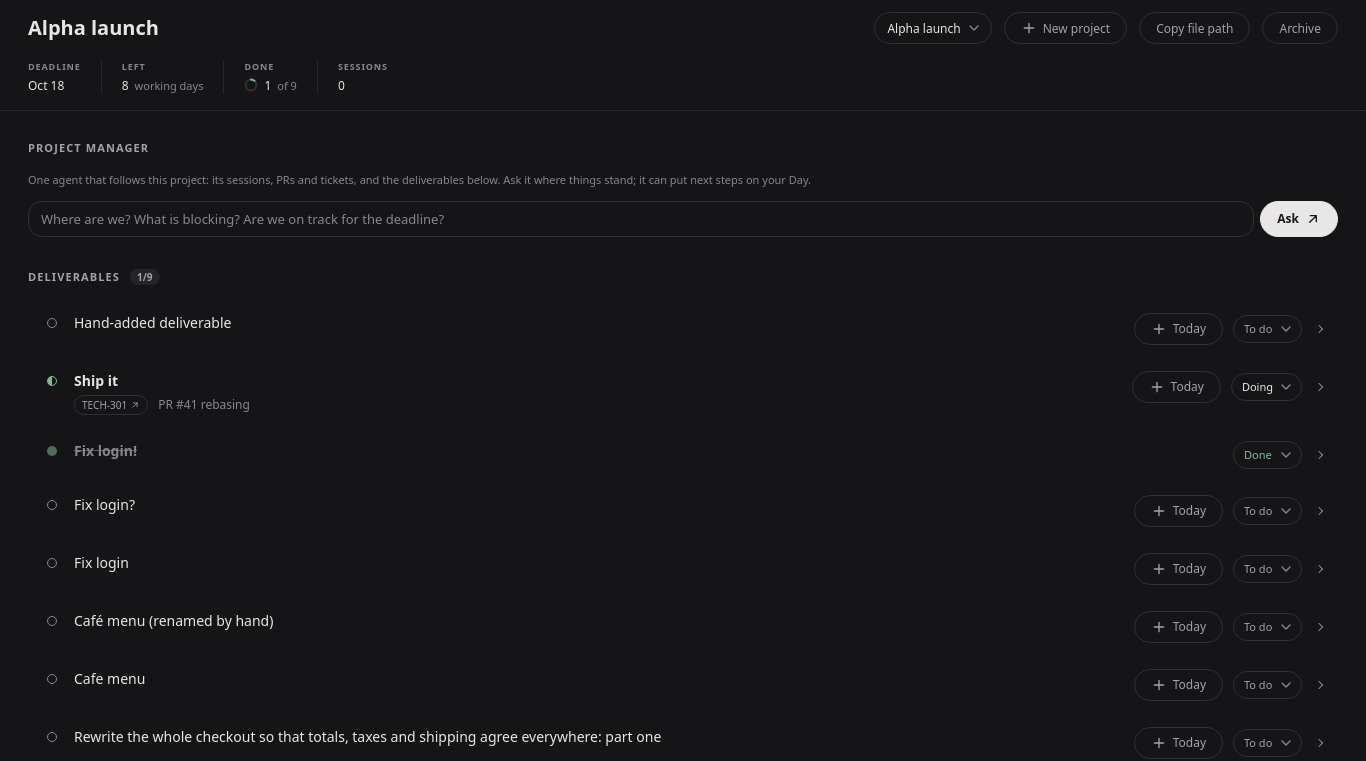
Test case: Projects pane › opens a task to its brief and sources, sends comments with Enter, keeps the text when refused
Expected: the heading "Alpha launch" is shown, left=28, top=14, right=159, bottom=41
Click the heading "Ship it TECH-301 PR #41 rebasing Today Doing" at [96, 380], box left=28, top=359, right=1338, bottom=427
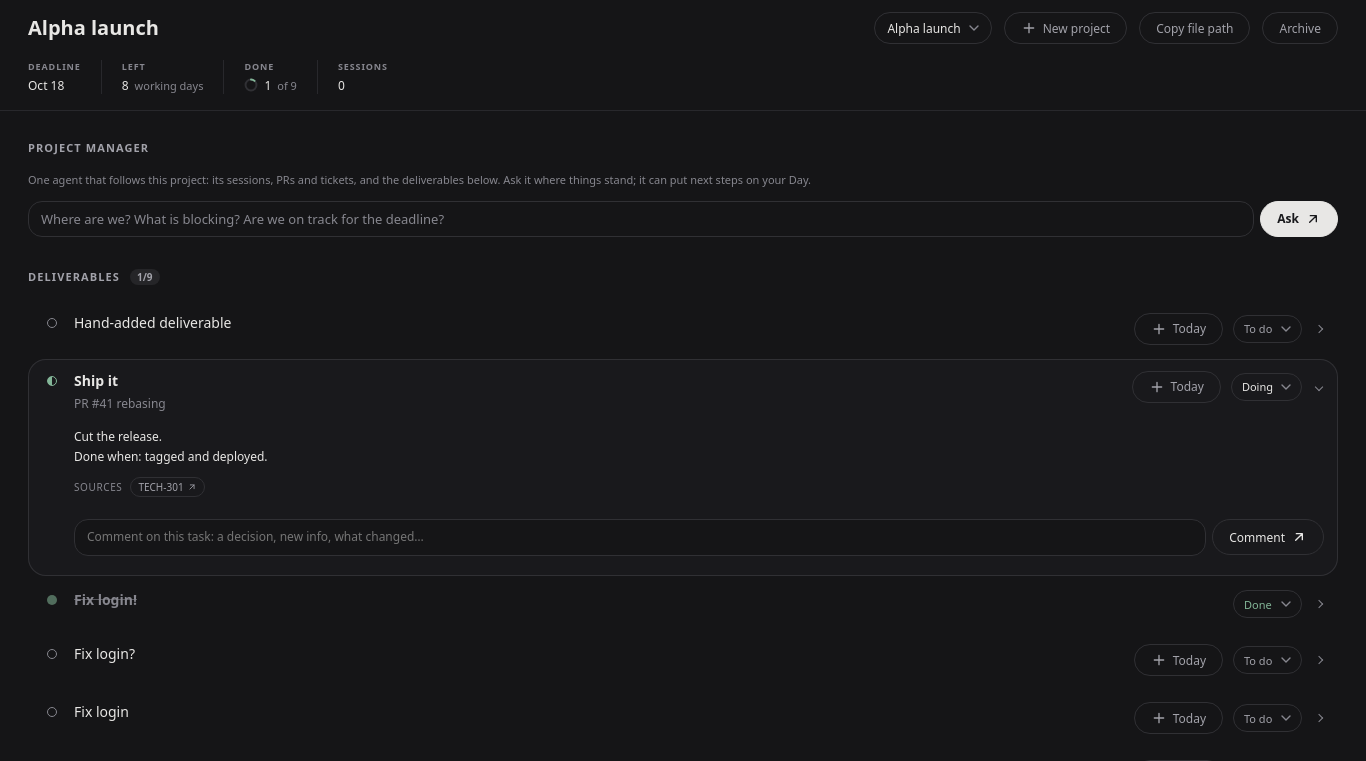
Expected: the link "TECH-301" is shown, left=130, top=477, right=205, bottom=497
Expected: the element with class "task-detail" shows "Cut the release.", left=74, top=428, right=162, bottom=445
Press Enter in the text box named "Comment on Ship it", box left=74, top=519, right=1206, bottom=556
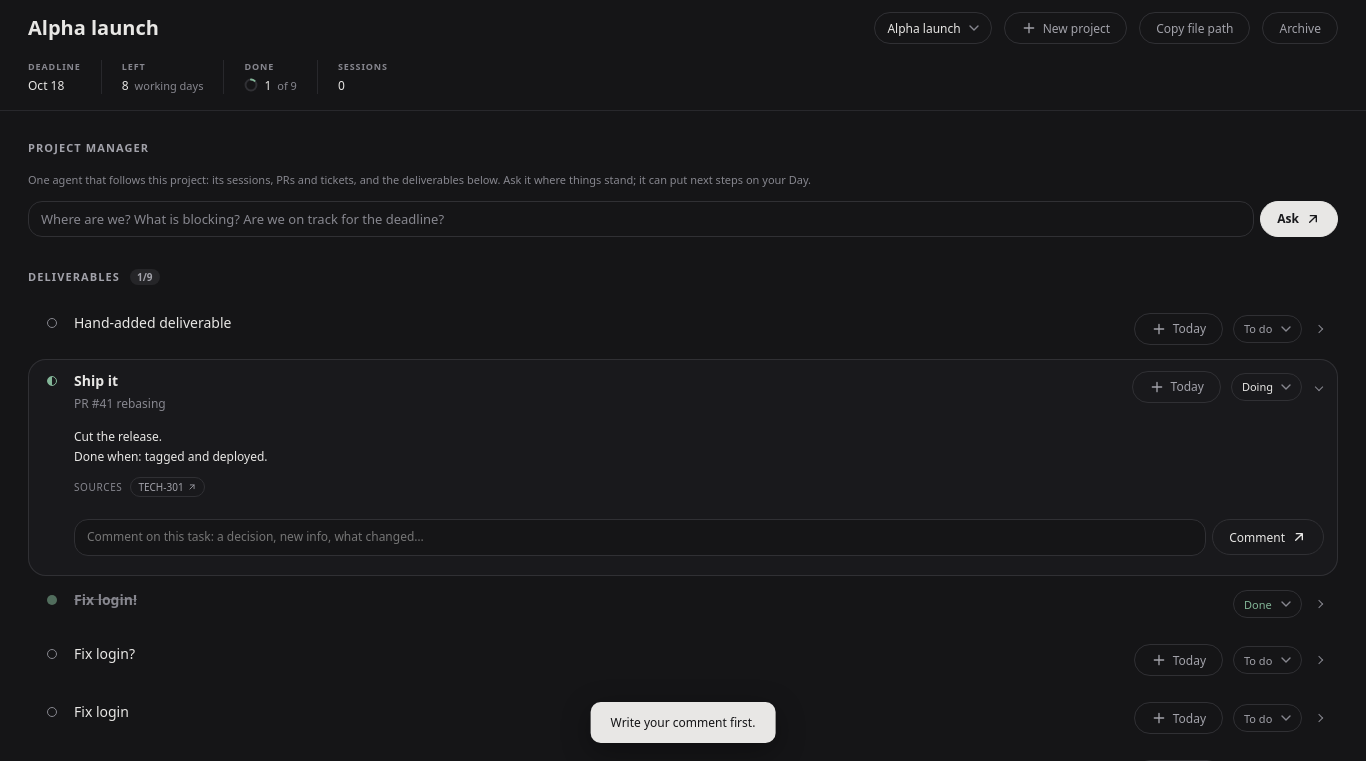
Expected: the message with id "toast" reads "Write your comment first.", left=611, top=714, right=755, bottom=731
Shift+Enter breaks the line and sends nothing.
Type "Needs a rollback plan" into the text box named "Comment on Ship it" at [640, 538], box left=74, top=519, right=1206, bottom=556
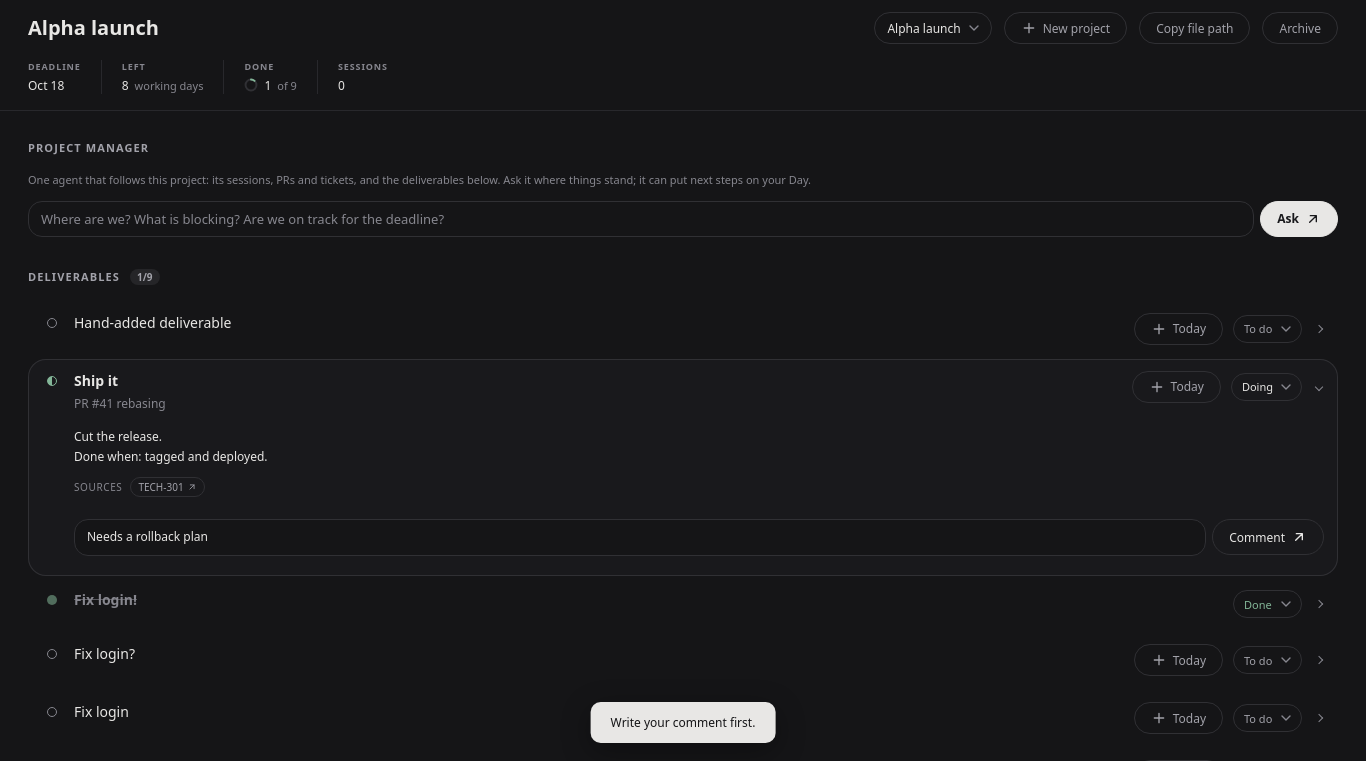
Press Enter in the text box named "Comment on Ship it", box left=74, top=519, right=1206, bottom=556
Press Enter in the text box named "Comment on Ship it", box left=74, top=519, right=1206, bottom=556
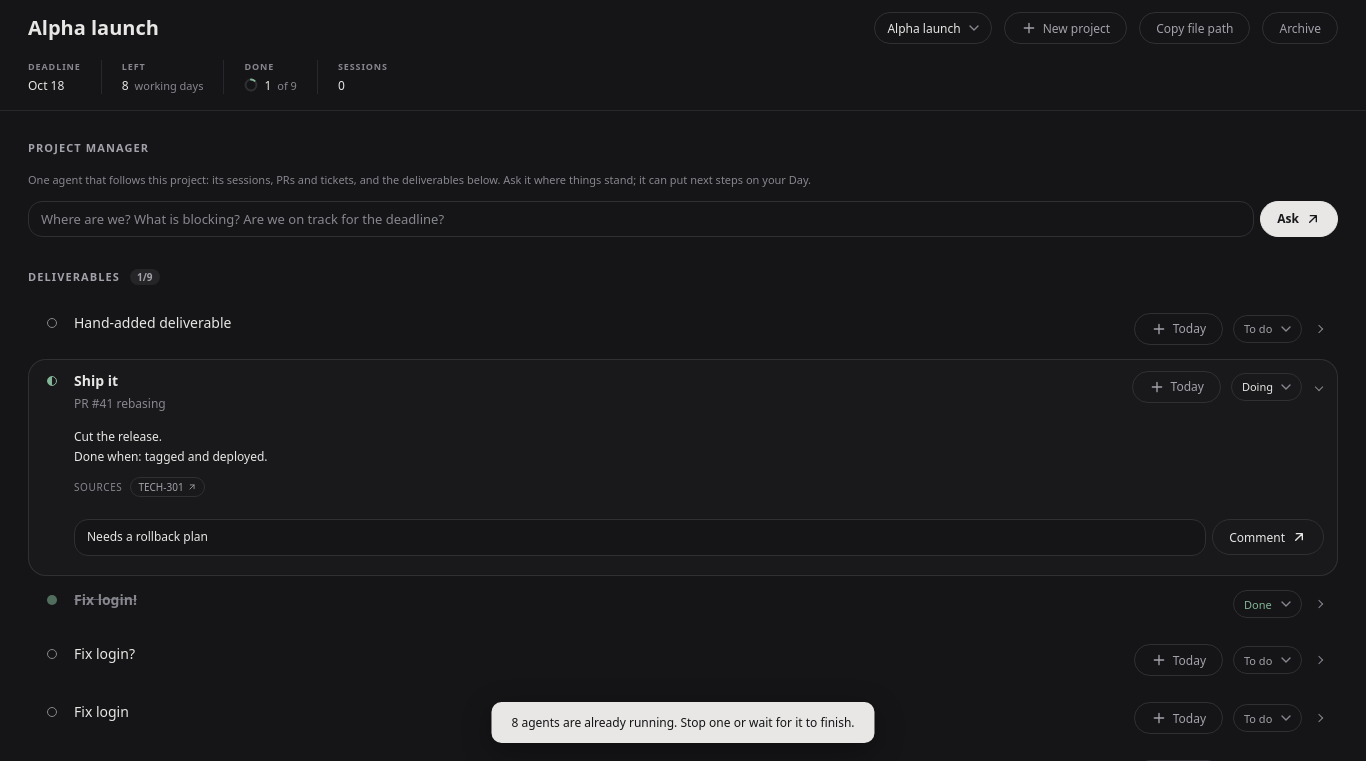
Expected: the message with id "toast" reads "8 agents are already running. Stop one or wait for it to finish.", left=512, top=714, right=854, bottom=731
Press Enter in the text box named "Comment on Ship it", box left=74, top=519, right=1206, bottom=556
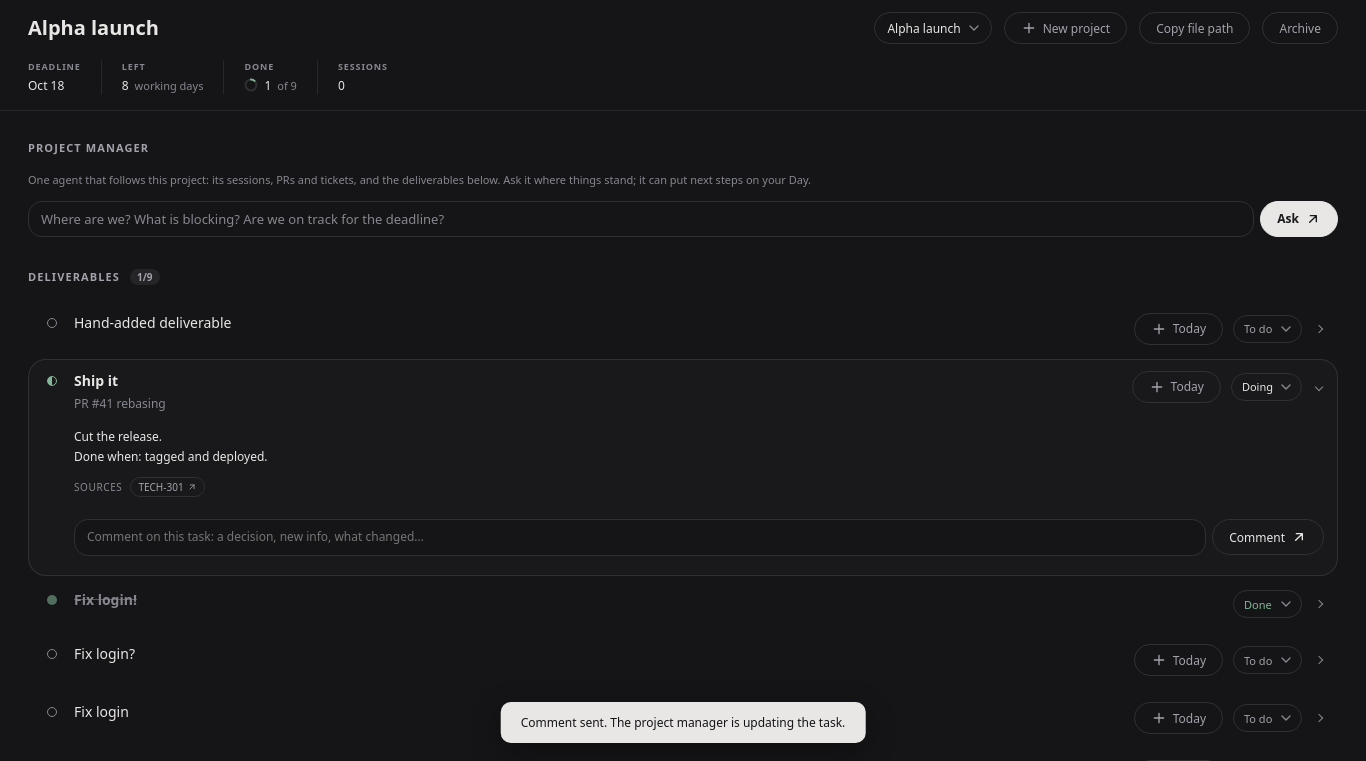
Expected: the message with id "toast" reads "Comment sent. The project manager is updating the task.", left=521, top=714, right=845, bottom=731
Expected: the text box named "Comment on Ship it" is empty, left=74, top=519, right=1206, bottom=556
